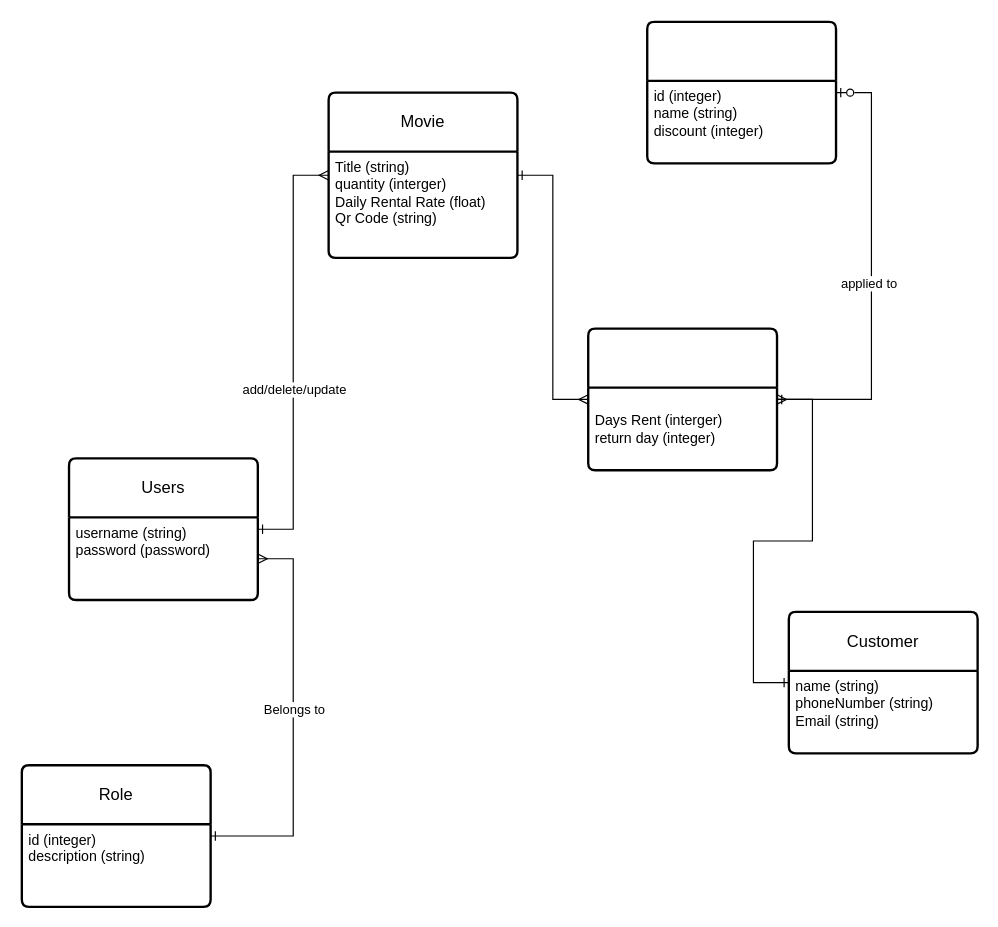
This 998x927 diagram has some shape labels left out. The shapes that lost their labels are listed below. From the top down, each one's box as (x1, y1, x2, y2) in pixels, then its label:
(645, 20, 837, 164): Coupon
(586, 327, 778, 471): Rental
